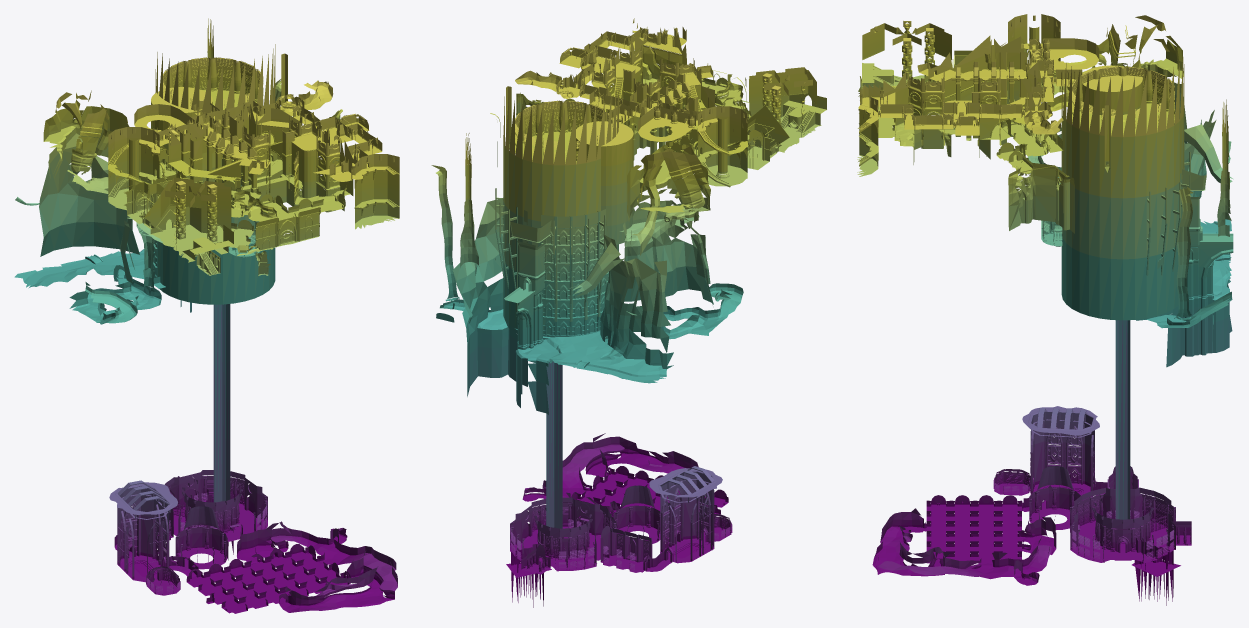
Rendered from 760_SZ_AUT.glb.
3 views of the same model, side by side, from view 1: azimuth 30°, elevation 25°; view 2: azimuth 150°, elevation 25°; view 3: azimuth 270°, elevation 25° (orthographic). The views are drawn at different scales.
Parts seen in each view (by area): view 1: walls, floors; view 2: walls, floors; view 3: walls, floors.
Part boxes in pixels (x1,y1,x2,y2): walls: (15,18,399,610); floors: (14,57,399,613); walls: (431,18,826,607); floors: (436,29,826,577); walls: (858,14,1233,605); floors: (857,20,1233,585).
Size of the model in its own units: 223 by 435 by 273.
